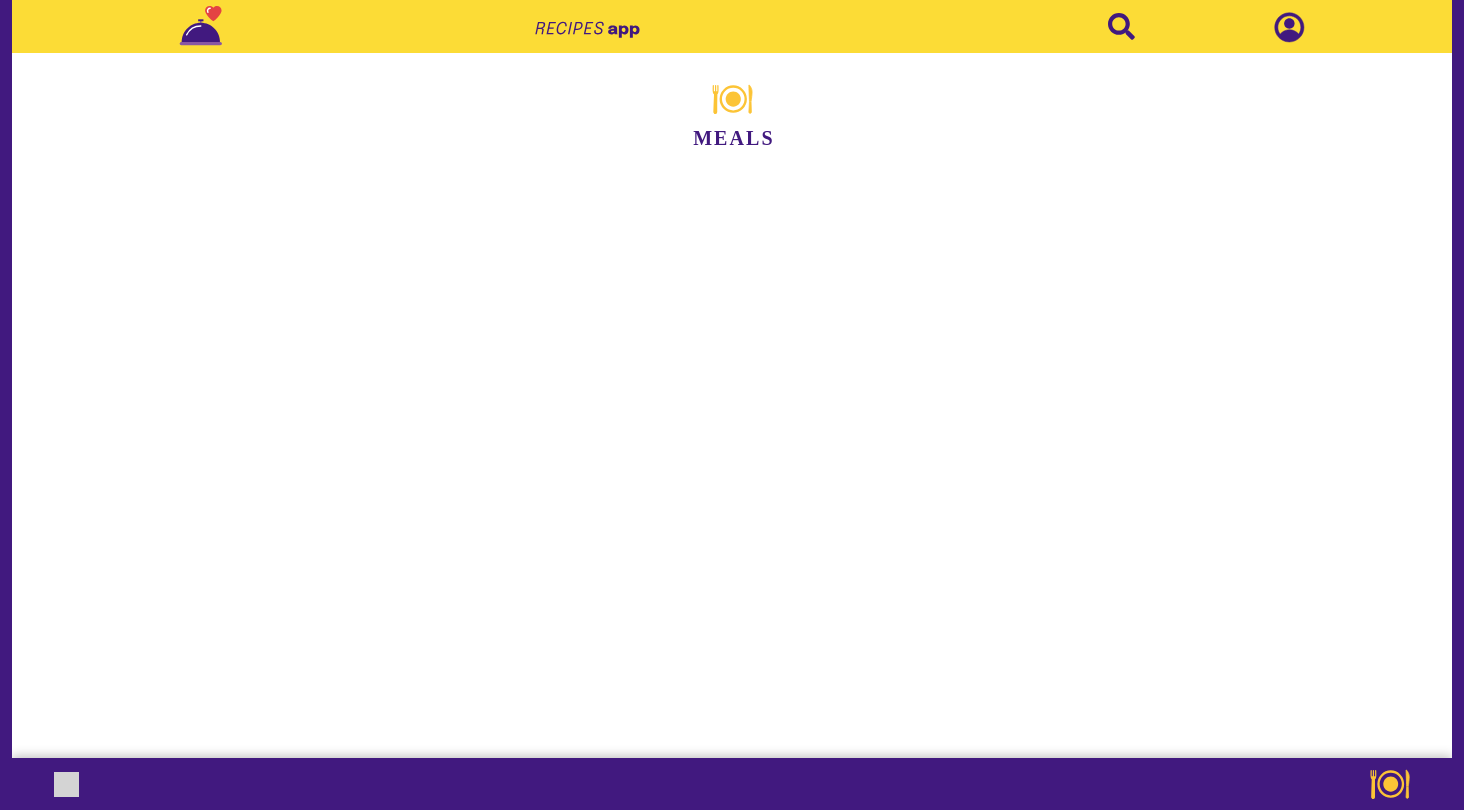
it: Testando o componente SearchBar › Verifica se o input de pesquisa está na tela
Step 1. Click the button with test id "search-top-btn" → click(1122, 21), box left=1068, top=7, right=1175, bottom=34
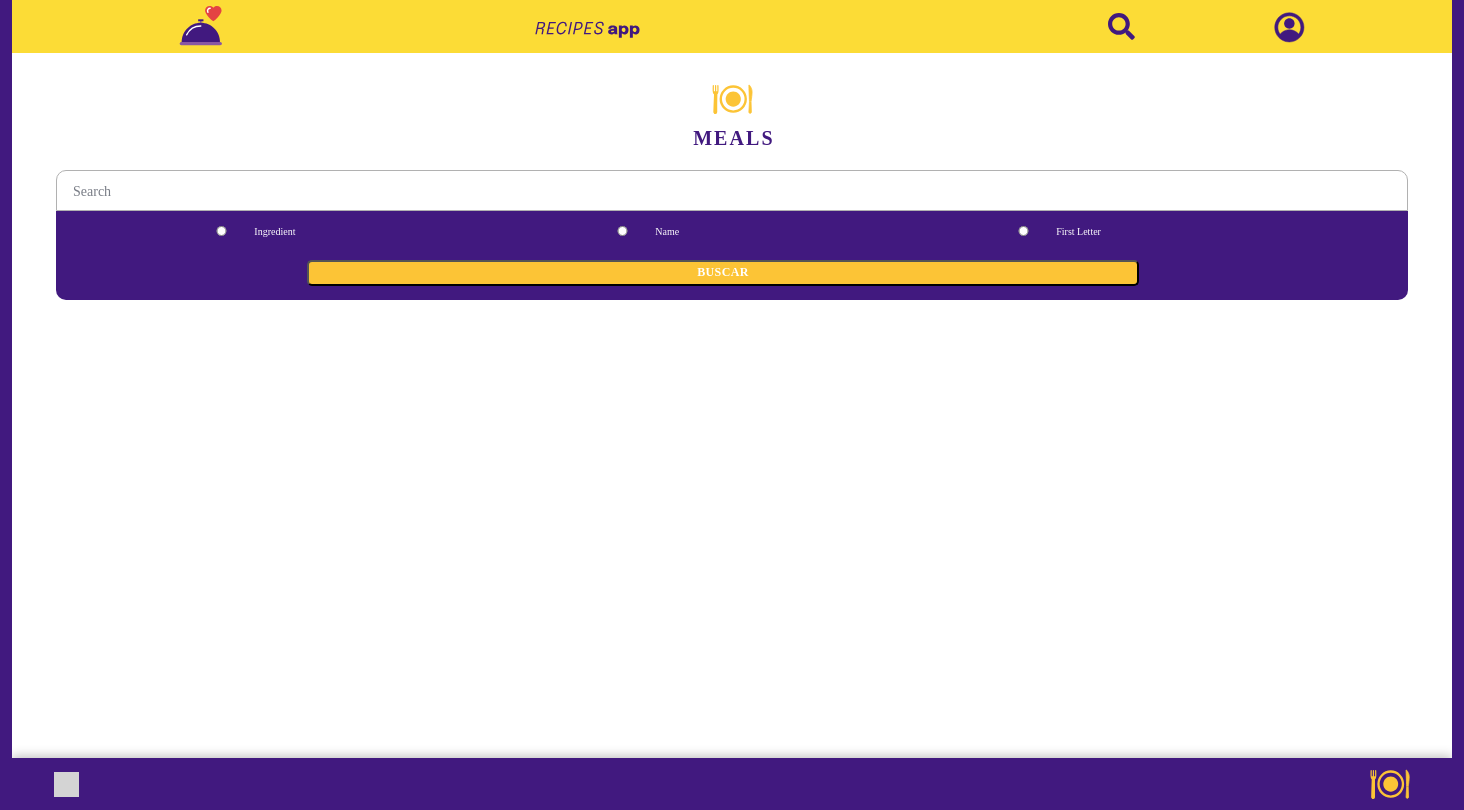
Now the search field with test id "search-input" is shown, box left=56, top=170, right=1408, bottom=211
